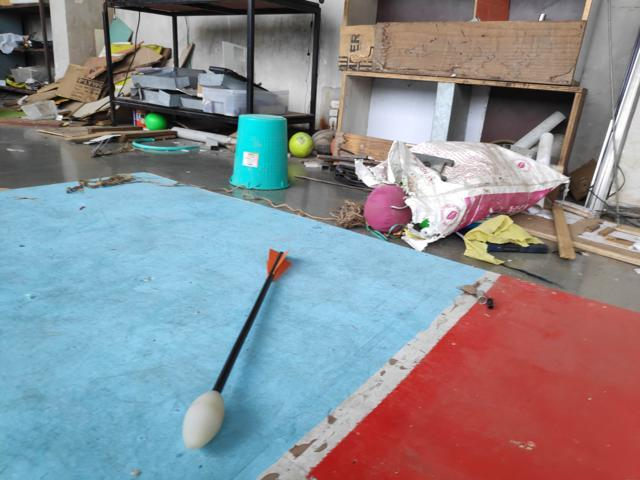Head: (182, 388, 227, 450)
Tail: (262, 247, 295, 282)
